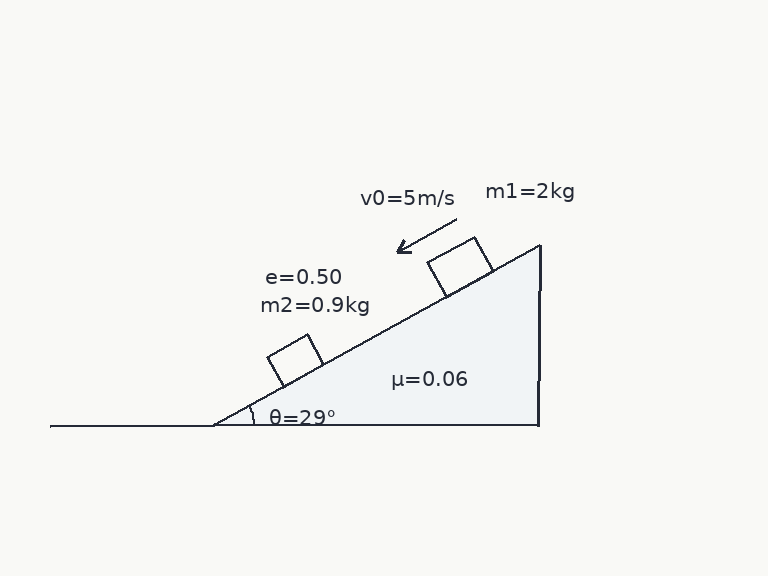block: (425, 234, 495, 298), (265, 332, 326, 389)
ramp: (212, 243, 540, 427)
